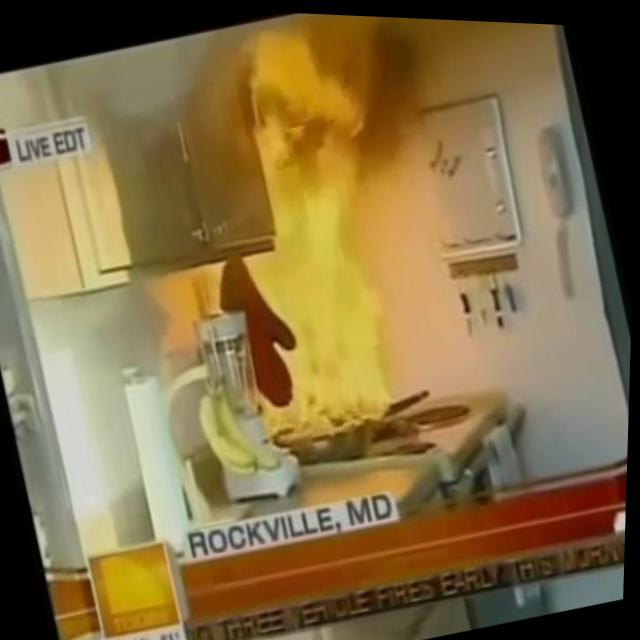fire: (179, 8, 441, 448)
